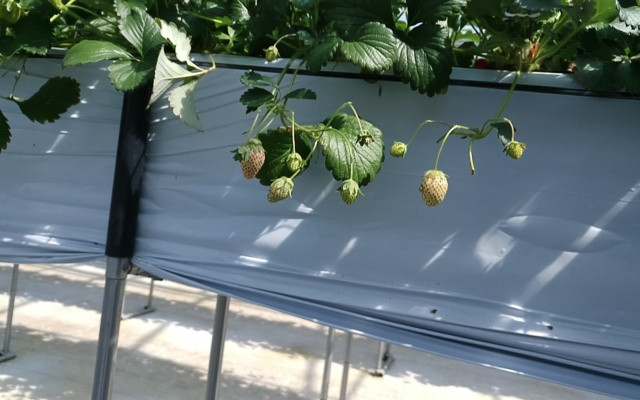GreenStrawberry: (239, 140, 266, 182), (420, 171, 449, 210), (267, 177, 293, 204), (340, 179, 360, 205), (286, 152, 303, 174), (388, 142, 407, 159), (508, 141, 525, 160), (263, 46, 278, 63)
